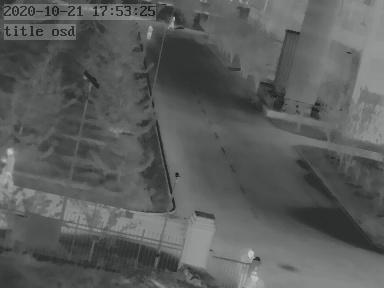person: (241, 246, 263, 287), (3, 146, 18, 189), (146, 25, 153, 39), (169, 16, 176, 30)
